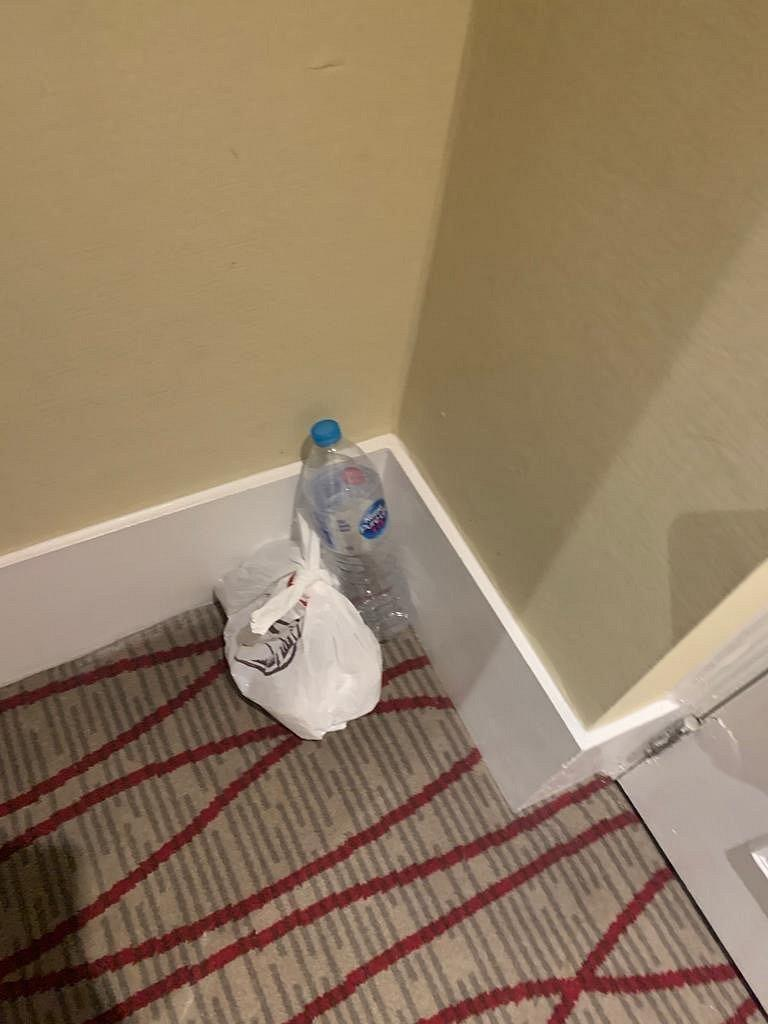mess: (183, 423, 453, 742)
